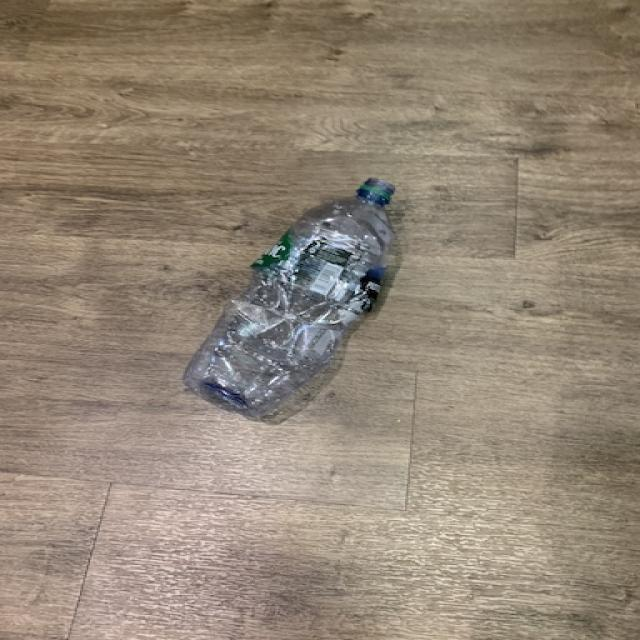litter: (180, 176, 407, 424)
